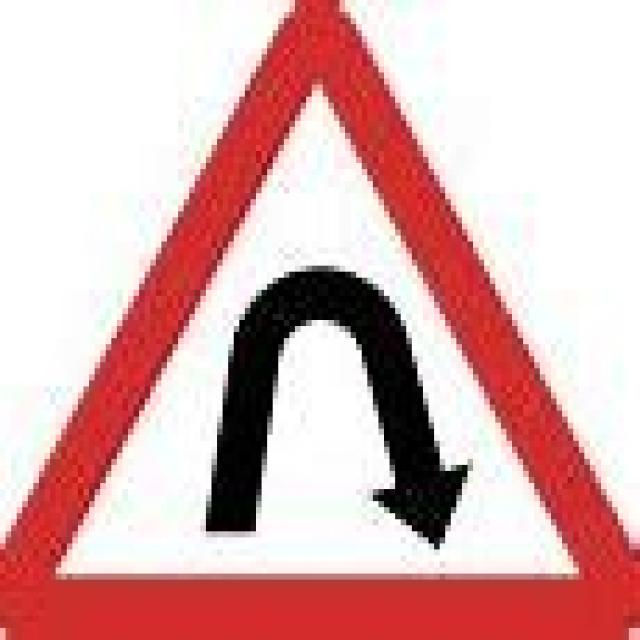RIGHT_HAIR_PIN_BEND: (0, 0, 634, 634)
